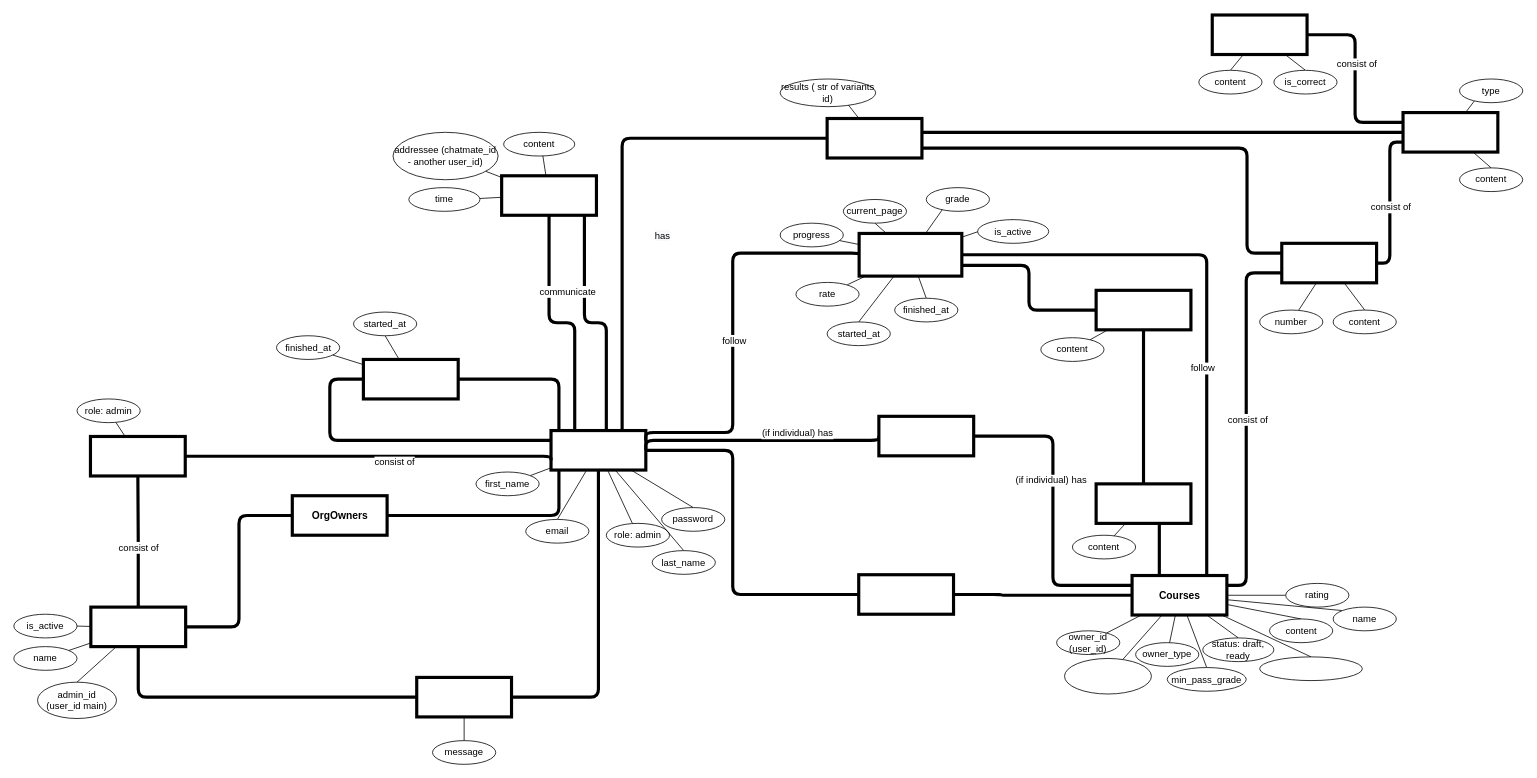
Some shapes in this 1537 by 778 pixel diagram are drawn without their labels. The shapes that lost their labels are listed below. From the top down, each one's centre as x and y in pixels, then its label:
(x=1259, y=34): Variants
(x=874, y=138): Results
(x=1450, y=132): Questions
(x=549, y=195): Messages
(x=910, y=254): CourseEnrollments
(x=1329, y=262): Pages
(x=1143, y=309): Certifications
(x=410, y=378): Impersonations
(x=137, y=455): OrgUsers
(x=598, y=450): Users
(x=926, y=435): CourseUsers
(x=1143, y=503): CertTemplates
(x=906, y=594): FavoritesCourses
(x=138, y=626): Organizations
(x=1107, y=676): org_id (organization_id)
(x=1310, y=668): type: public, private, individual
(x=464, y=696): OrgRequest
